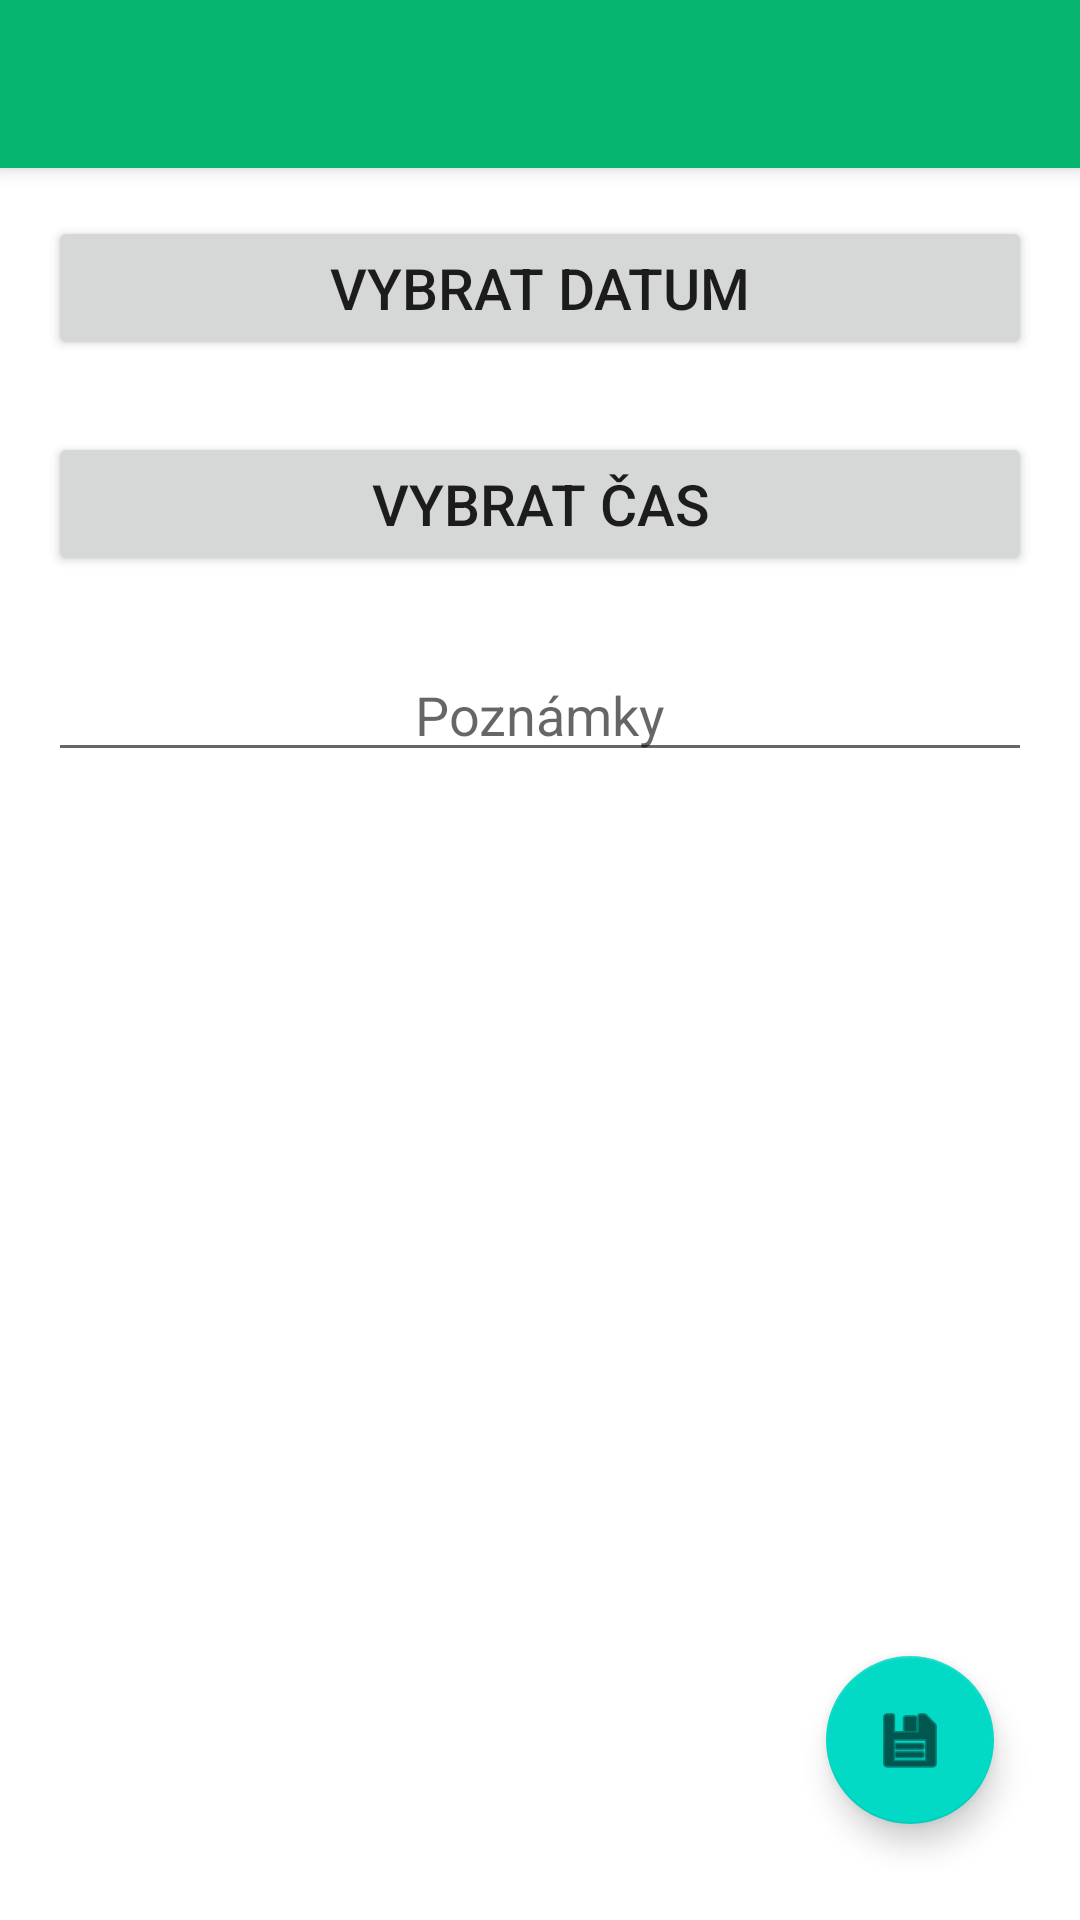

Icons on this 1080×1920 Android screen, each with its box as {"left": x1, "top": y1, "right": x2, "bottom": y2}:
save: {"left": 826, "top": 1656, "right": 994, "bottom": 1824}
